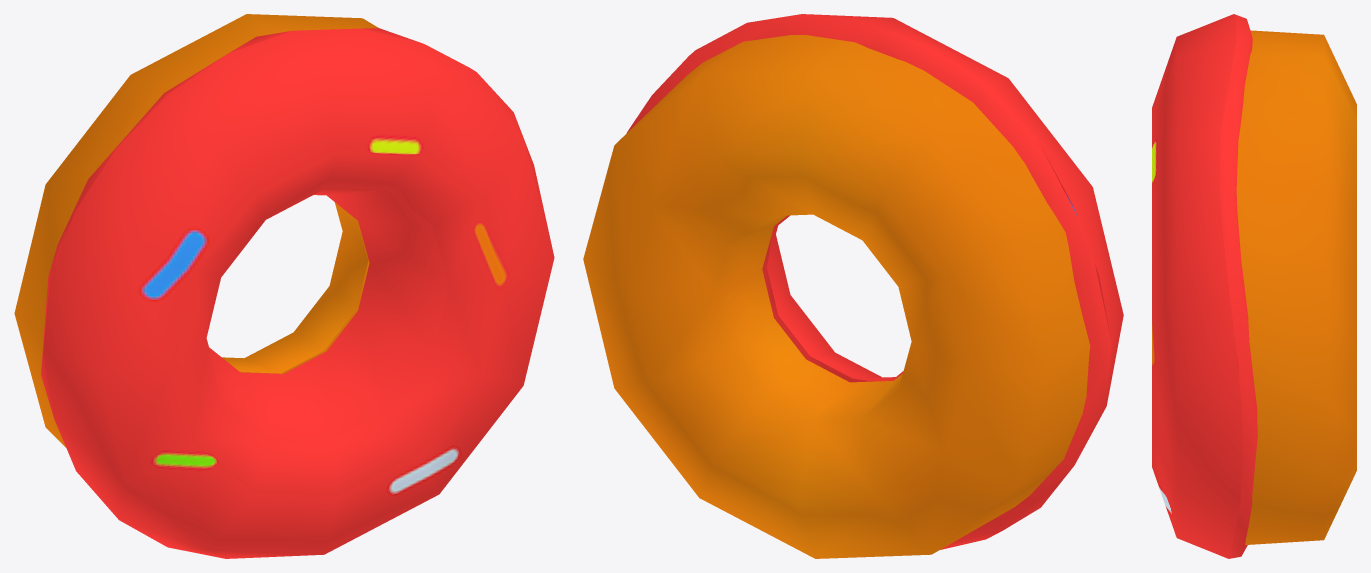
File: red_donut.glb
3 renders of one model, left to right at view 1: azimuth 30°, elevation 25°; view 2: azimuth 150°, elevation 25°; view 3: azimuth 270°, elevation 25°, orthographic. The views are drawn at different scales.
Visible parts, largest first — view 1: Red_Donut; view 2: Red_Donut; view 3: Red_Donut.
Part boxes in pixels (box(x1,y1,x2,y2)): Red_Donut: box(14, 14, 554, 558); Red_Donut: box(583, 14, 1123, 558); Red_Donut: box(1152, 14, 1356, 558).
Bounding box in the file's own units: 0.5966 × 0.6007 × 0.2247.
Materials: 1 (1 with a texture image).
